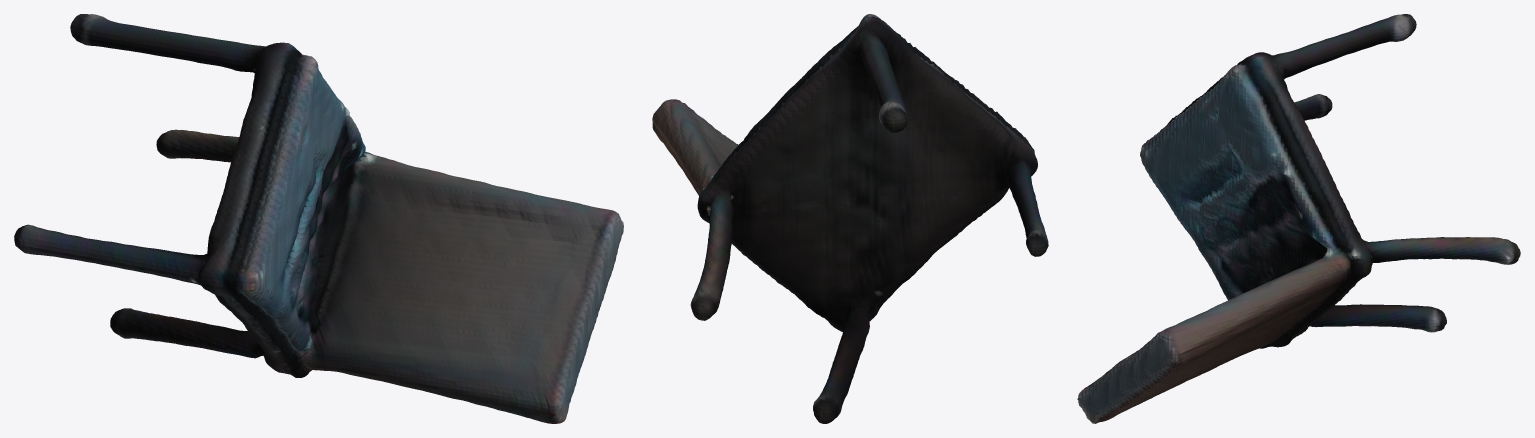
3 views of the same model, side by side, from view 1: azimuth 30°, elevation 25°; view 2: azimuth 150°, elevation 25°; view 3: azimuth 270°, elevation 25° (orthographic). The views are drawn at different scales.
Size of the model in its own units: 0.9885 by 0.6427 by 0.8652.
